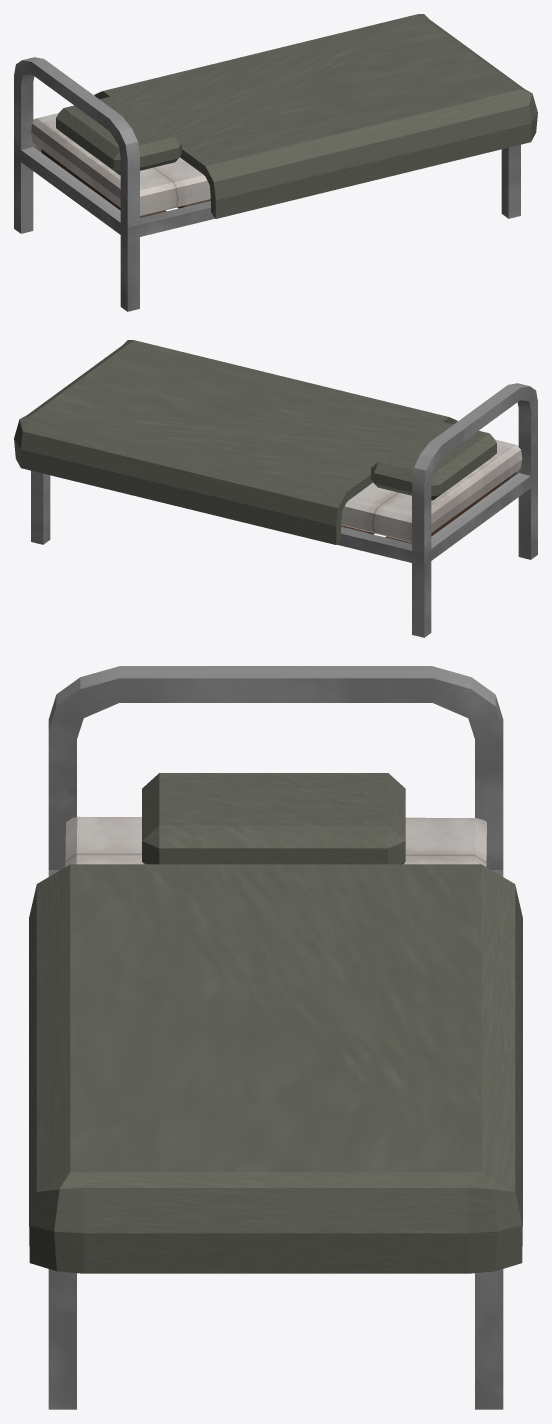
Rendered from 3dmodel_nicerbed_v1_sc.fbx.
3 renders of one model, top to bottom at view 1: azimuth 30°, elevation 25°; view 2: azimuth 150°, elevation 25°; view 3: azimuth 270°, elevation 25°, orthographic. The views are drawn at different scales.
Parts seen in each view (by area): view 1: nicerbed; view 2: nicerbed; view 3: nicerbed.
Boxes of the visible parts, x1=… form: nicerbed: x1=14, y1=14, x2=537, y2=311; nicerbed: x1=14, y1=340, x2=537, y2=637; nicerbed: x1=29, y1=666, x2=522, y2=1409.
Bounding box in the file's own units: 2.07 × 0.86 × 1.07.
